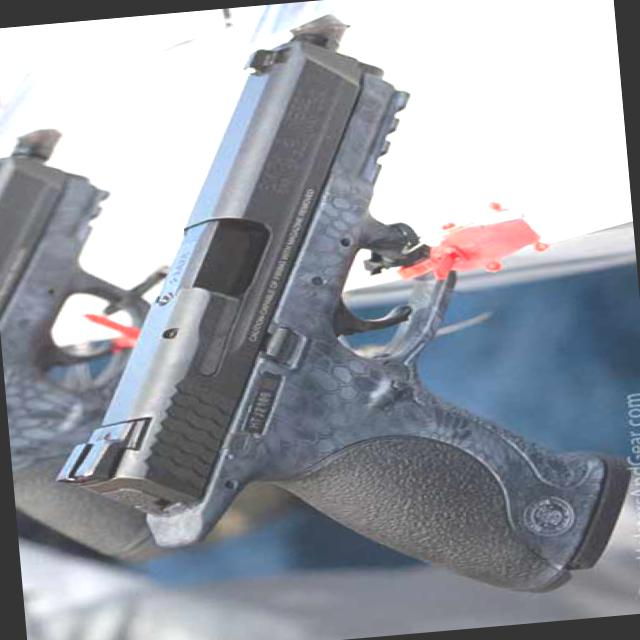handgun: (13, 1, 601, 638)
